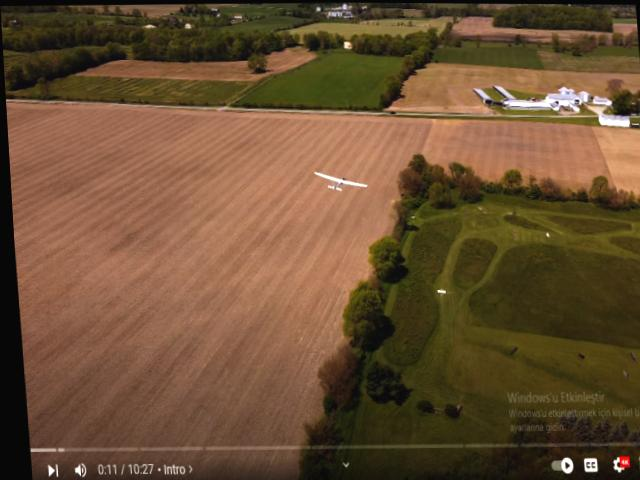plane: (312, 170, 366, 195)
